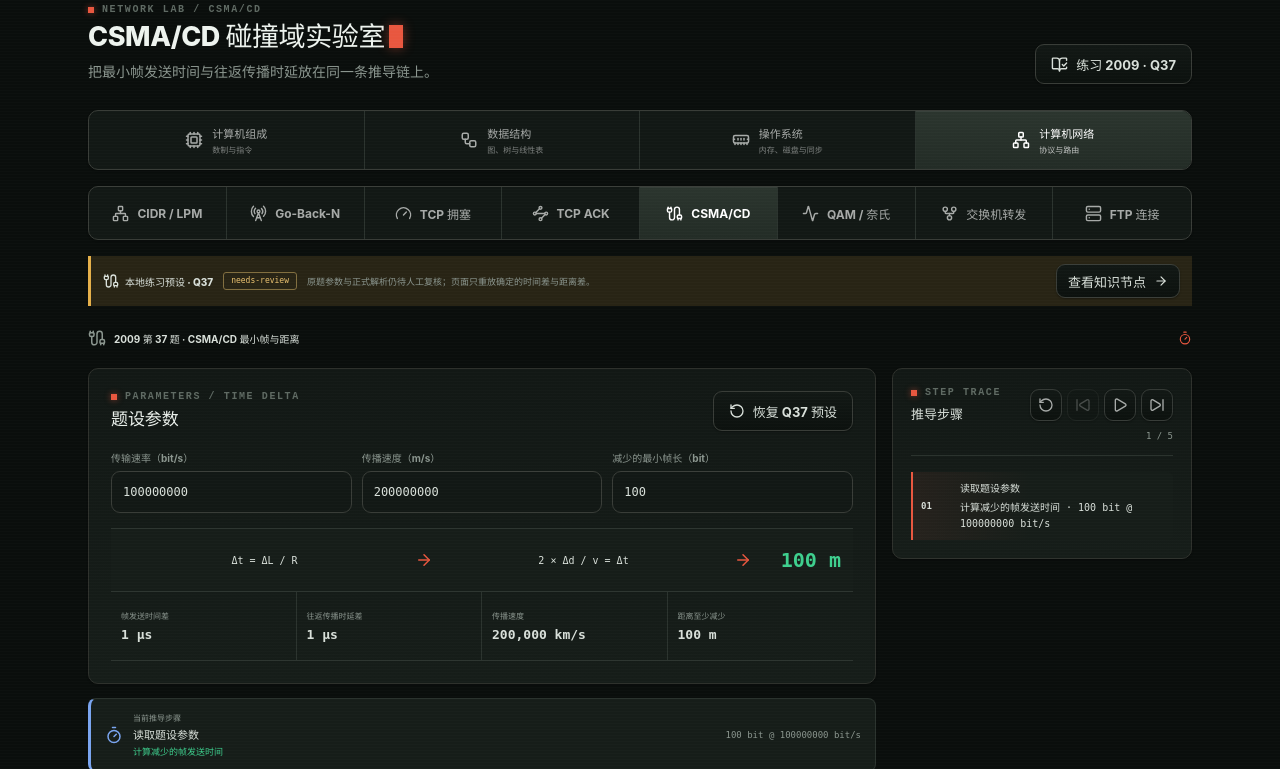
Scenario: CsmaCdCollisionLabPage › restores custom URL parameters, fails closed, and returns to the canonical preset
Replace the text in the field labelled "减少的最小帧长" with "0": (733, 492) left=612, top=472, right=853, bottom=514
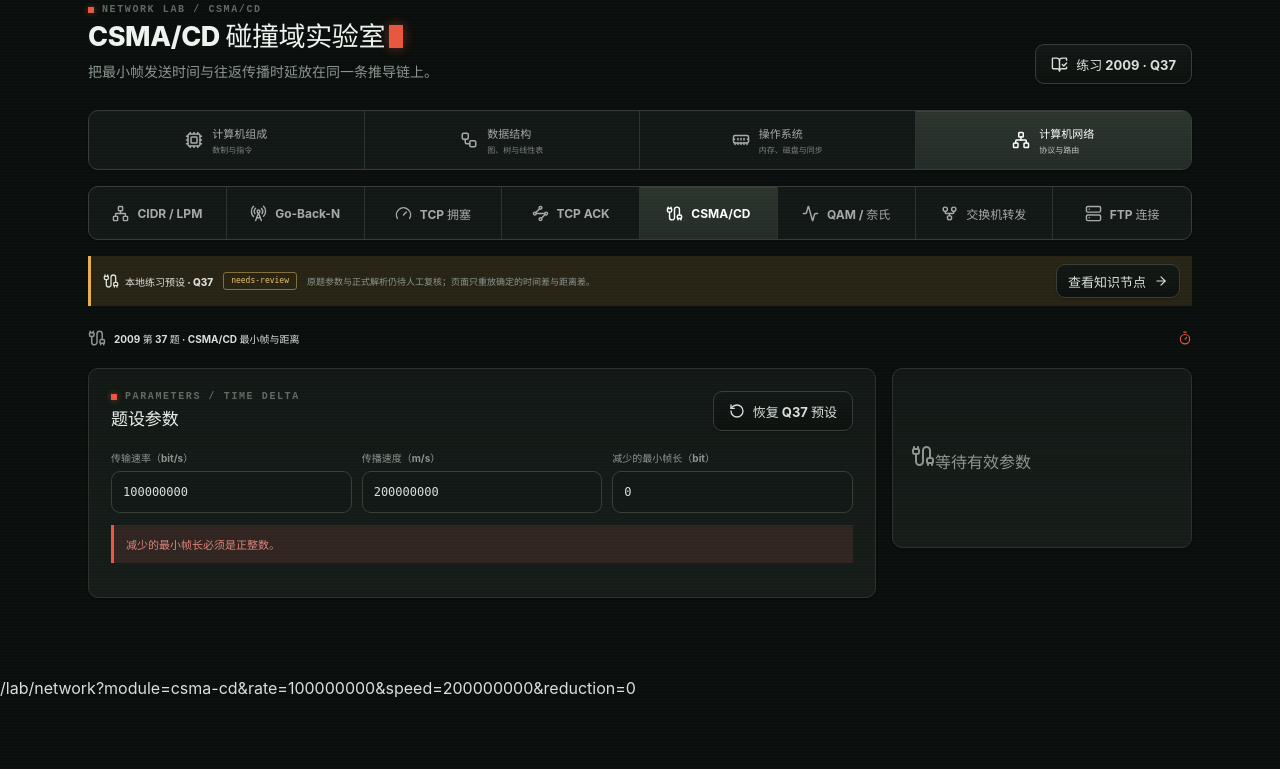
Check: the message shows "正整数", box left=111, top=526, right=853, bottom=564
Check: the field labelled "转换步骤" is gone
Click the button "恢复 Q37 预设": click(783, 412) left=713, top=392, right=853, bottom=432
(page scrolled)
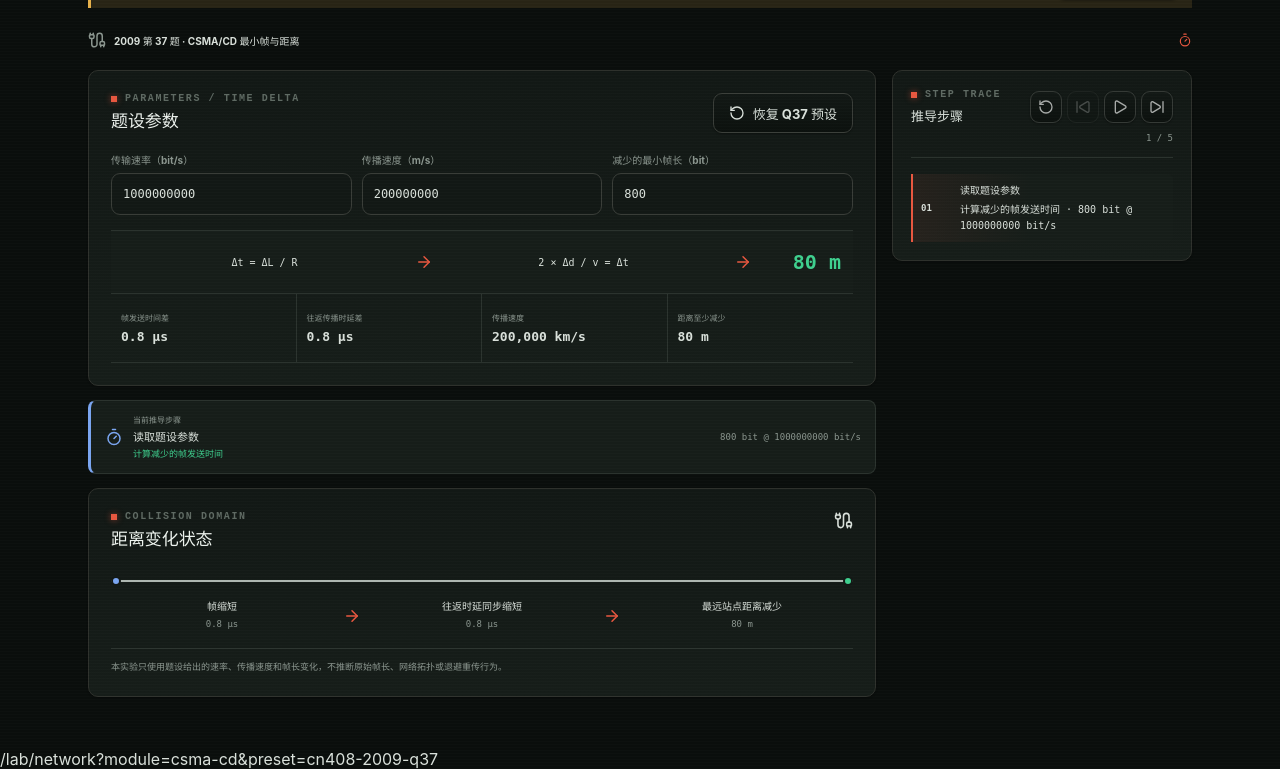
Check: the message "减少的最小帧长必须是正整数。" is gone
Check: the text with test id "location" reads "/lab/network?module=csma-cd&preset=cn408-2009-q37", box left=0, top=749, right=438, bottom=768
